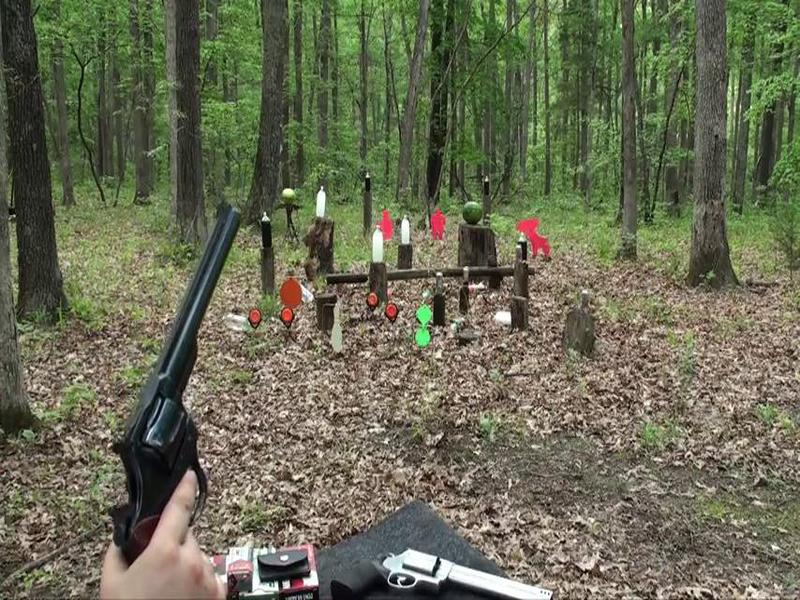Revolver: (102, 197, 254, 581)
